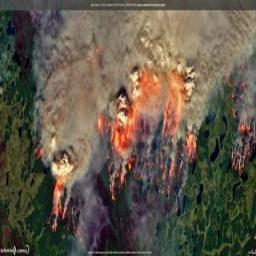Heavy smoke: (34, 12, 105, 167), (107, 16, 253, 64)
Large fire: (106, 75, 193, 183), (48, 172, 66, 232)
Medium fire: (237, 81, 254, 175)
